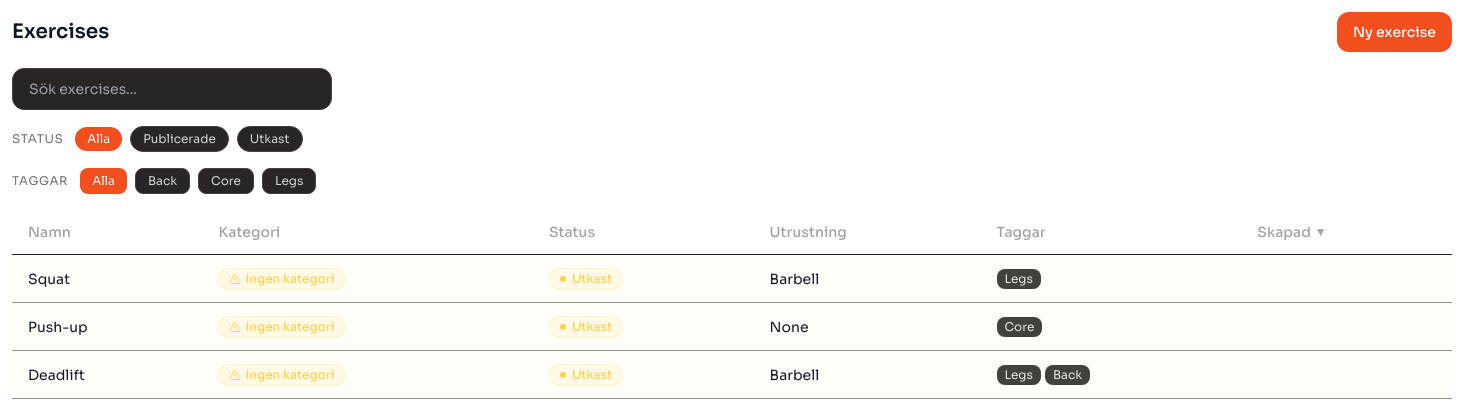
Scenario: ExerciseList › filtrerar listan när en tagg-chip väljs
Expected: the text "Squat" is shown, [12,254,202,302]
Step 1. Click the button "Core" → (226, 181), box [198,168,254,194]
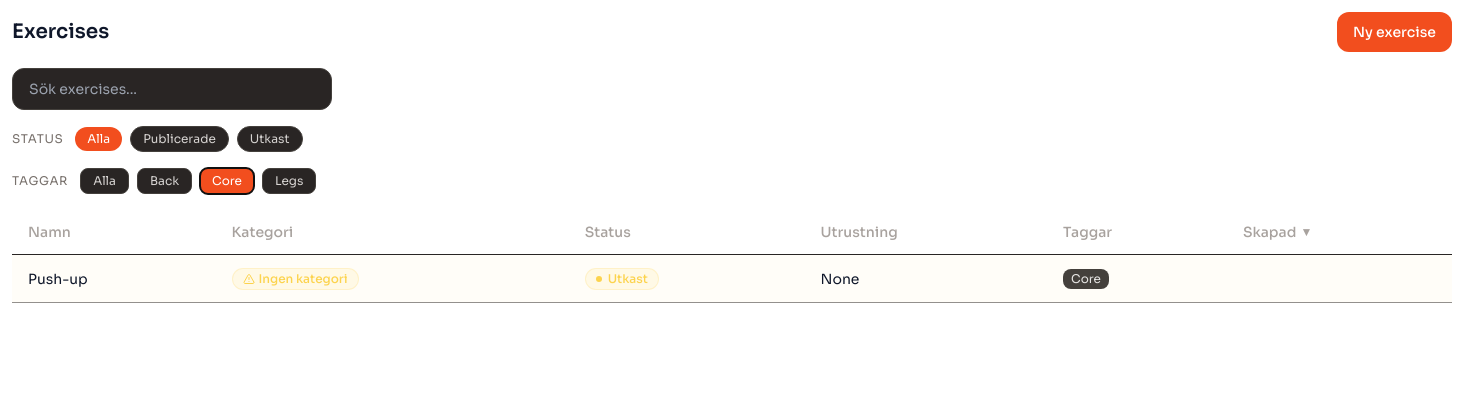
Expected: the text "Push-up" is shown, [12,254,216,302]
Expected: the text "Squat" is gone
Expected: the text "Deadlift" is gone
